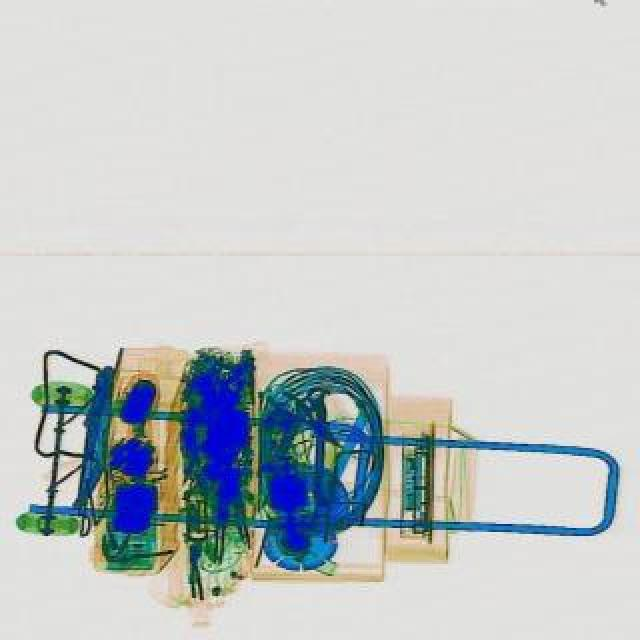scissors: (252, 392, 320, 484), (304, 384, 330, 520)
wrench: (262, 382, 346, 454)
